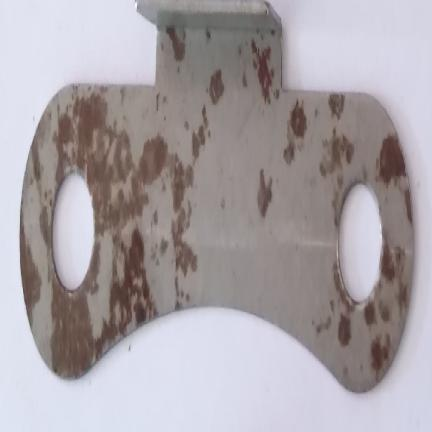karat: (52, 95, 168, 389)
